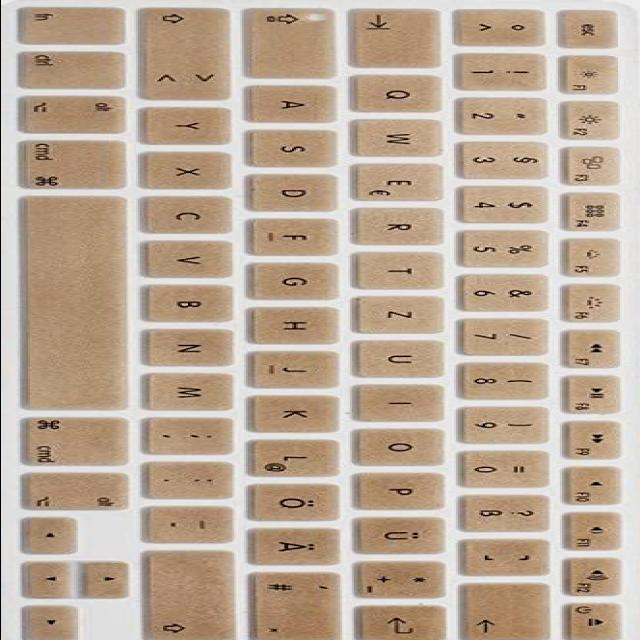0: (459, 448, 555, 488)
1: (457, 50, 553, 90)
2: (457, 94, 553, 134)
3: (459, 139, 553, 179)
4: (461, 183, 555, 223)
5: (461, 227, 557, 267)
6: (459, 272, 555, 312)
7: (461, 315, 555, 355)
8: (459, 359, 555, 400)
9: (461, 404, 555, 444)
a: (249, 83, 343, 123)
accent: (463, 537, 557, 576)
ae: (253, 525, 349, 565)
alt-left: (19, 93, 131, 134)
altgr-right: (23, 469, 135, 510)
b: (149, 282, 241, 322)
c: (143, 193, 241, 233)
caret: (455, 6, 551, 46)
comma: (147, 414, 241, 454)
d: (251, 171, 345, 211)
del: (461, 579, 560, 640)
e: (355, 161, 449, 200)
enter: (359, 603, 453, 640)
f: (251, 217, 343, 256)
g: (251, 260, 345, 300)
h: (253, 304, 347, 344)
hash: (253, 570, 351, 640)
i: (359, 381, 451, 421)
j: (251, 349, 345, 387)
k: (253, 393, 345, 433)
keyboard: (2, 0, 636, 640)
l: (251, 437, 345, 476)
less: (143, 60, 235, 100)
m: (145, 370, 243, 410)
minus: (149, 503, 241, 543)
n: (147, 326, 241, 366)
o: (357, 426, 453, 466)
oe: (251, 481, 345, 521)
p: (357, 469, 453, 509)
plus: (359, 558, 453, 598)
point: (149, 459, 241, 499)
q: (353, 72, 449, 113)
r: (355, 205, 451, 245)
s: (251, 127, 343, 167)
shift-left: (141, 5, 241, 103)
shift-lock: (245, 5, 343, 77)
shift-right: (147, 547, 245, 640)
space: (23, 192, 135, 410)
ss: (461, 492, 557, 532)
strg-left: (18, 48, 130, 89)
t: (357, 249, 451, 289)
tab: (351, 5, 447, 67)
u: (355, 337, 453, 377)
ue: (357, 513, 453, 554)
v: (147, 238, 241, 278)
w: (355, 117, 453, 157)
x: (145, 150, 239, 190)
y: (145, 105, 237, 145)
z: (357, 294, 451, 334)
